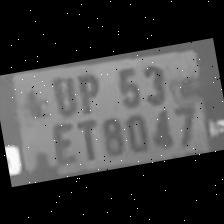0: (119, 108, 150, 155)
3: (134, 56, 170, 106)
4: (144, 102, 176, 152)
5: (108, 62, 143, 110)
7: (167, 96, 201, 148)
8: (94, 110, 126, 159)
E: (44, 114, 80, 169)
P: (70, 66, 104, 116)
T: (70, 113, 103, 163)
U: (46, 70, 78, 119)
